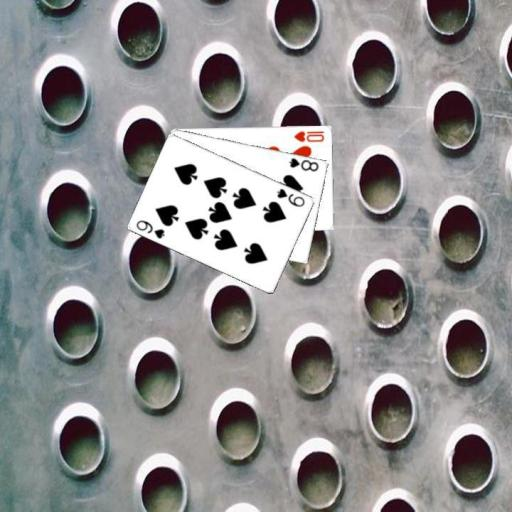10H: (291, 127, 326, 143)
8S: (286, 154, 320, 173)
9S: (274, 185, 306, 208), (134, 217, 166, 240)
